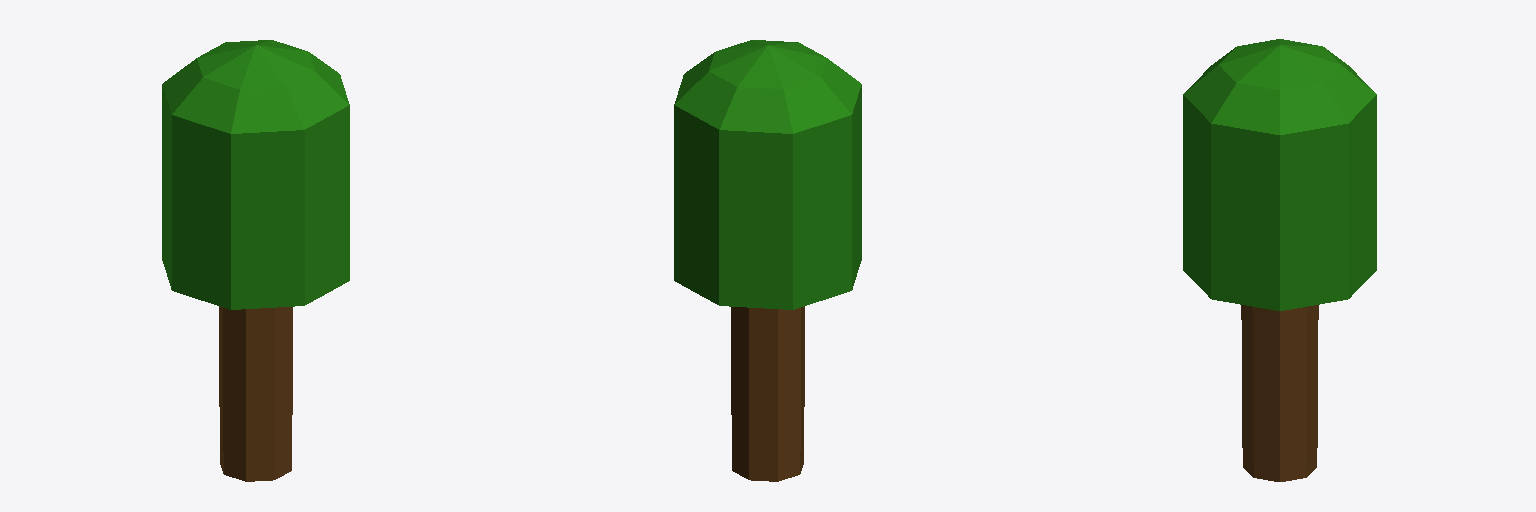
File: Tree_1.obj
3 views of the same model, side by side, from view 1: azimuth 30°, elevation 25°; view 2: azimuth 150°, elevation 25°; view 3: azimuth 270°, elevation 25° (orthographic).
Parts seen in each view (by area): view 1: Tree_1; view 2: Tree_1; view 3: Tree_1.
Part boxes in pixels (x1,y1,x2,y2): Tree_1: (162,40,349,481); Tree_1: (674,40,861,481); Tree_1: (1183,39,1376,481).
Bounding box in the file's own units: 1 × 2.4 × 1.